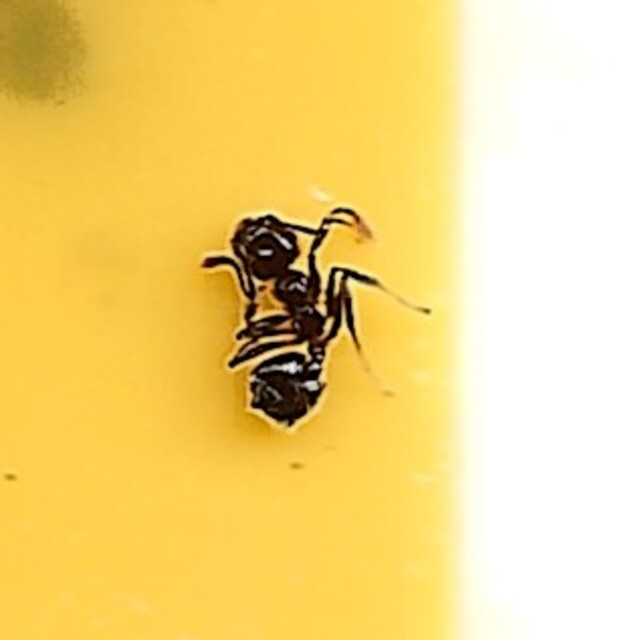Hymenoptera: (202, 201, 438, 439)
